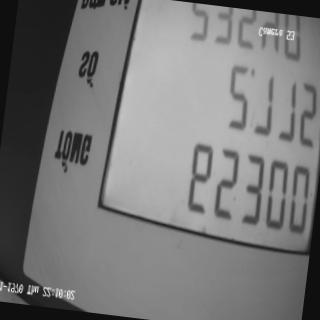screen: (87, 0, 320, 265)
